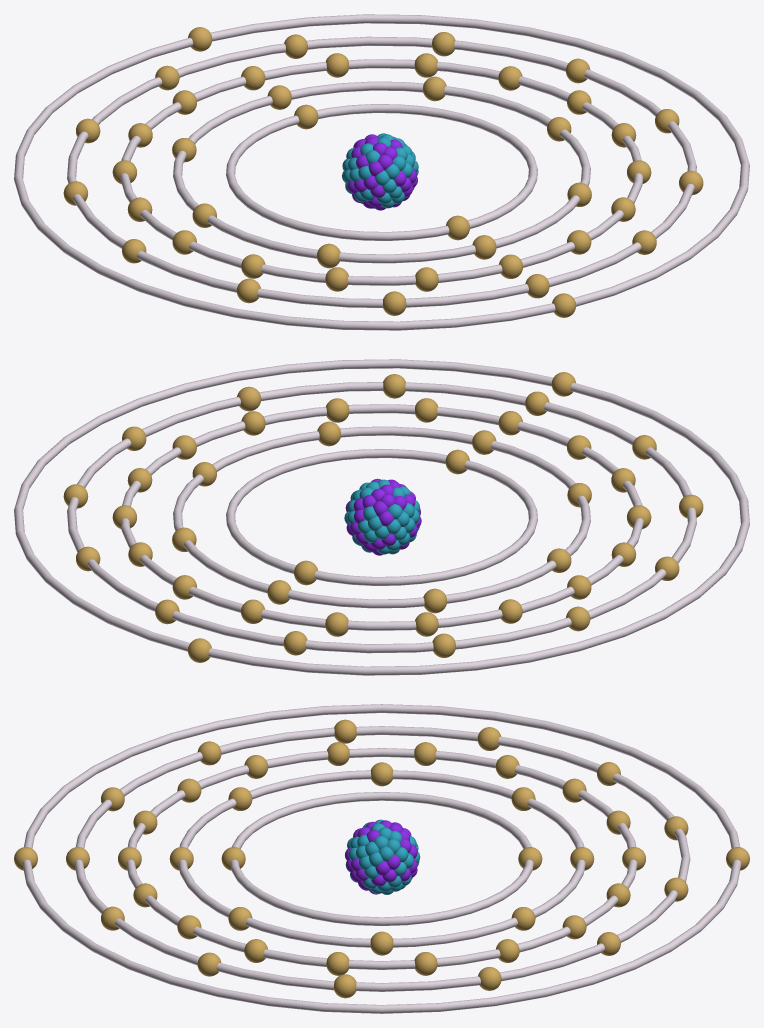
Rendered from tecnecio.glb.
3 renders of one model, top to bottom at view 1: azimuth 30°, elevation 25°; view 2: azimuth 150°, elevation 25°; view 3: azimuth 270°, elevation 25°, orthographic. The views are drawn at different scales.
Parts seen in each view (by area): view 1: Orbita_5, Orbita_4, Orbita_3, Orbita_2, Orbita_1, Nucleo_Completo; view 2: Orbita_5, Orbita_4, Orbita_3, Orbita_2, Orbita_1, Nucleo_Completo; view 3: Orbita_5, Orbita_4, Orbita_3, Orbita_2, Orbita_1, Nucleo_Completo.
Boxes of the visible parts, x1,y1,x2,y2 form: Orbita_5: [14, 14, 749, 330]; Orbita_4: [67, 36, 696, 307]; Orbita_3: [120, 59, 643, 285]; Orbita_2: [173, 81, 590, 263]; Orbita_1: [226, 104, 537, 240]; Nucleo_Completo: [342, 133, 418, 210]; Orbita_5: [14, 359, 749, 675]; Orbita_4: [67, 382, 696, 653]; Orbita_3: [120, 404, 643, 630]; Orbita_2: [173, 426, 590, 608]; Orbita_1: [226, 449, 537, 585]; Nucleo_Completo: [344, 478, 421, 555]; Orbita_5: [22, 704, 741, 1013]; Orbita_4: [74, 726, 690, 991]; Orbita_3: [126, 748, 637, 969]; Orbita_2: [178, 770, 585, 947]; Orbita_1: [230, 792, 533, 925]; Nucleo_Completo: [345, 819, 420, 894].
Size of the model in its own units: 4.86 by 0.5079 by 4.96.
